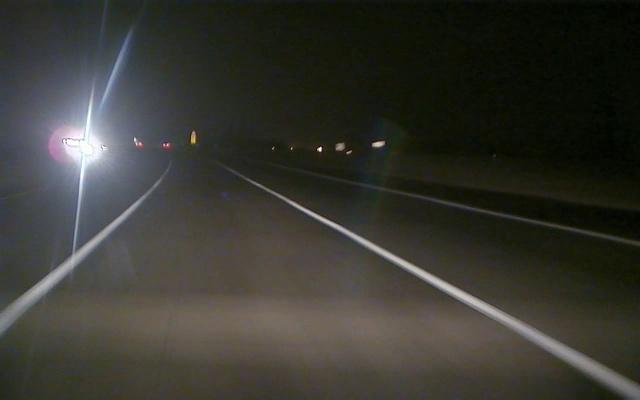lane: (240, 175, 631, 392), (1, 189, 150, 334), (336, 177, 639, 247)
